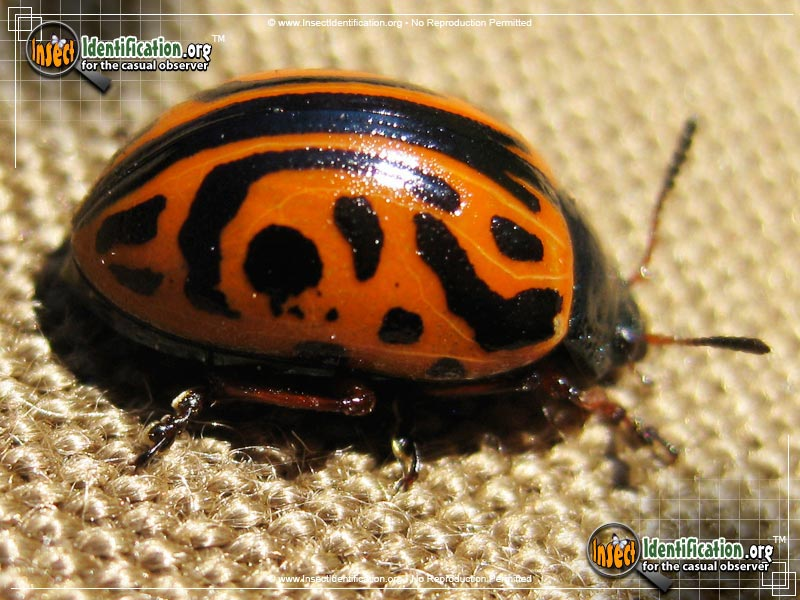Calligrapha Beetle: (48, 64, 759, 492)
